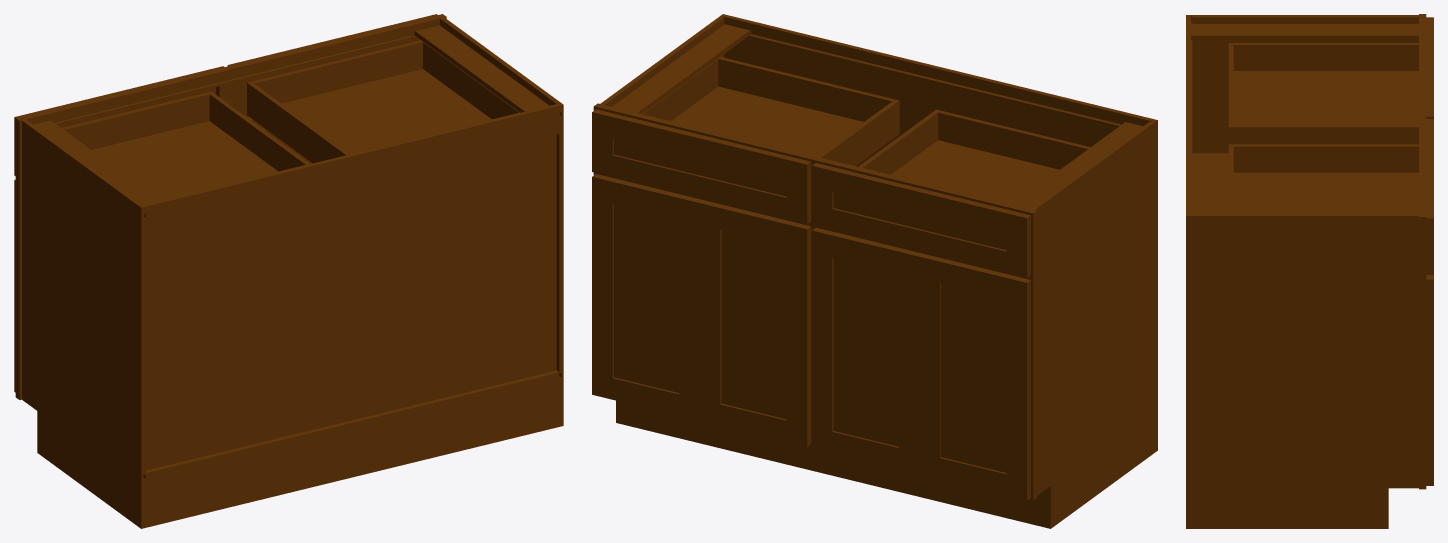
3 renders of one model, left to right at view 1: azimuth 30°, elevation 25°; view 2: azimuth 150°, elevation 25°; view 3: azimuth 270°, elevation 25°, orthographic. The views are drawn at different scales.
Parts seen in each view (by area): view 1: mesh181_mesh181-geometry, mesh175_mesh175-geometry, mesh179_mesh179-geometry, mesh177_mesh177-geometry, mesh5_mesh5-geometry, mesh41_mesh41-geometry, mesh187_mesh187-geometry, mesh3_mesh3-geometry, mesh67_mesh67-geometry, mesh173_mesh173-geometry, mesh210_mesh210-geometry, mesh7_mesh7-geometry (+7 smaller); view 2: mesh175_mesh175-geometry, mesh181_mesh181-geometry, mesh118_mesh118-geometry, mesh144_mesh144-geometry, mesh156_mesh156-geometry, mesh72_mesh72-geometry, mesh206_mesh206-geometry, mesh5_mesh5-geometry, mesh177_mesh177-geometry, mesh95_mesh95-geometry, mesh41_mesh41-geometry, mesh160_mesh160-geometry (+34 smaller); view 3: mesh173_mesh173-geometry, mesh41_mesh41-geometry, mesh5_mesh5-geometry, mesh175_mesh175-geometry, mesh7_mesh7-geometry, mesh35_mesh35-geometry, mesh37_mesh37-geometry, mesh212_mesh212-geometry, mesh183_mesh183-geometry, mesh208_mesh208-geometry, mesh69_mesh69-geometry, mesh187_mesh187-geometry (+8 smaller).
Part boxes in pixels (x1,y1,x2,y2): mesh181_mesh181-geometry: [145, 134, 556, 470]; mesh175_mesh175-geometry: [21, 118, 145, 528]; mesh179_mesh179-geometry: [143, 370, 559, 527]; mesh177_mesh177-geometry: [143, 104, 559, 234]; mesh5_mesh5-geometry: [282, 69, 491, 153]; mesh41_mesh41-geometry: [91, 121, 277, 200]; mesh187_mesh187-geometry: [30, 17, 433, 125]; mesh3_mesh3-geometry: [249, 40, 422, 103]; mesh67_mesh67-geometry: [61, 92, 211, 149]; mesh173_mesh173-geometry: [439, 16, 563, 426]; mesh210_mesh210-geometry: [414, 25, 560, 115]; mesh7_mesh7-geometry: [247, 82, 349, 163]; mesh175_mesh175-geometry: [1029, 119, 1157, 528]; mesh181_mesh181-geometry: [724, 35, 1119, 166]; mesh118_mesh118-geometry: [721, 230, 786, 419]; mesh144_mesh144-geometry: [833, 257, 898, 446]; mesh156_mesh156-geometry: [941, 283, 1006, 472]; mesh72_mesh72-geometry: [614, 204, 678, 392]; mesh206_mesh206-geometry: [620, 402, 1046, 527]; mesh5_mesh5-geometry: [671, 86, 863, 156]; mesh177_mesh177-geometry: [725, 15, 1152, 125]; mesh95_mesh95-geometry: [786, 221, 811, 446]; mesh41_mesh41-geometry: [891, 140, 1059, 204]; mesh160_mesh160-geometry: [1006, 275, 1030, 500]; mesh173_mesh173-geometry: [1186, 214, 1421, 528]; mesh41_mesh41-geometry: [1233, 71, 1418, 125]; mesh5_mesh5-geometry: [1233, 172, 1418, 208]; mesh175_mesh175-geometry: [1186, 15, 1421, 153]; mesh7_mesh7-geometry: [1228, 144, 1418, 172]; mesh35_mesh35-geometry: [1228, 43, 1418, 70]; mesh37_mesh37-geometry: [1228, 125, 1418, 144]; mesh212_mesh212-geometry: [1191, 23, 1418, 39]; mesh183_mesh183-geometry: [1419, 210, 1426, 489]; mesh208_mesh208-geometry: [1192, 153, 1228, 208]; mesh69_mesh69-geometry: [1426, 275, 1433, 485]; mesh187_mesh187-geometry: [1419, 20, 1426, 210].
Bounding box in the file's own units: 0.749 × 0.5384 × 0.3862.
